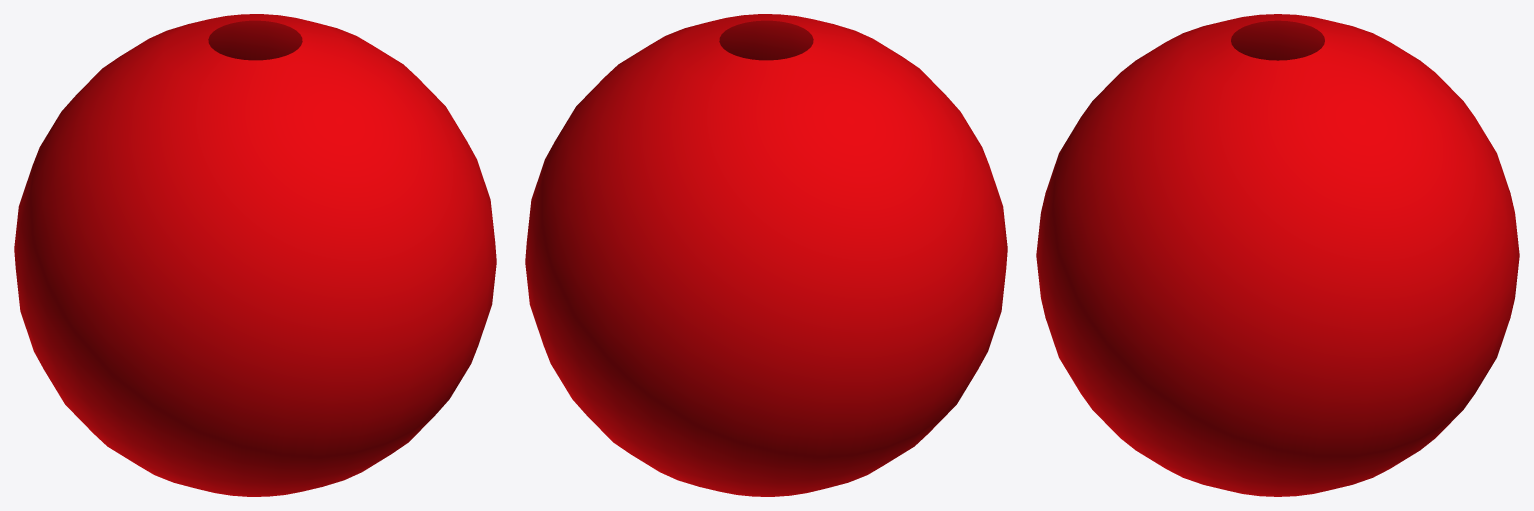
Rendered from Bauble.fbx.
The picture shows the model from 3 angles, left to right: view 1: azimuth 30°, elevation 25°; view 2: azimuth 150°, elevation 25°; view 3: azimuth 270°, elevation 25°; orthographic projection.
Visible parts, largest first — view 1: Bauble; view 2: Bauble; view 3: Bauble.
Boxes of the visible parts, bbox=[...] form: Bauble: bbox=[14, 14, 496, 496]; Bauble: bbox=[525, 14, 1007, 496]; Bauble: bbox=[1036, 14, 1519, 496].
Bounding box in the file's own units: 2 × 1.98 × 2.
